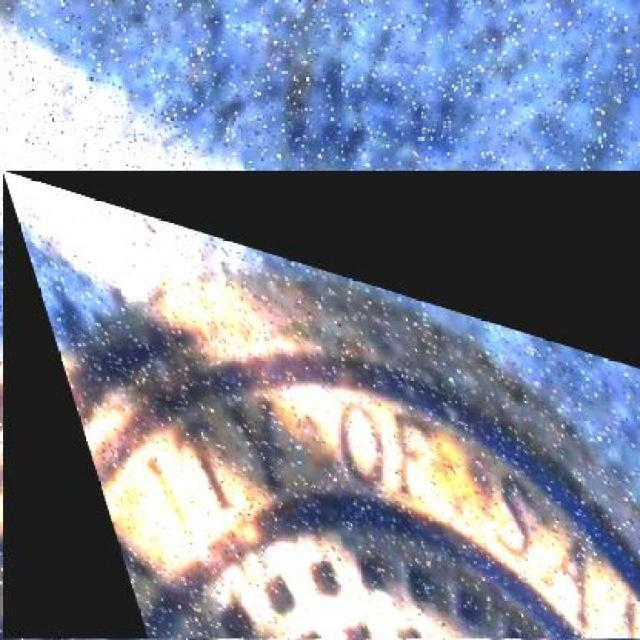Manhole: (3, 171, 640, 638)
